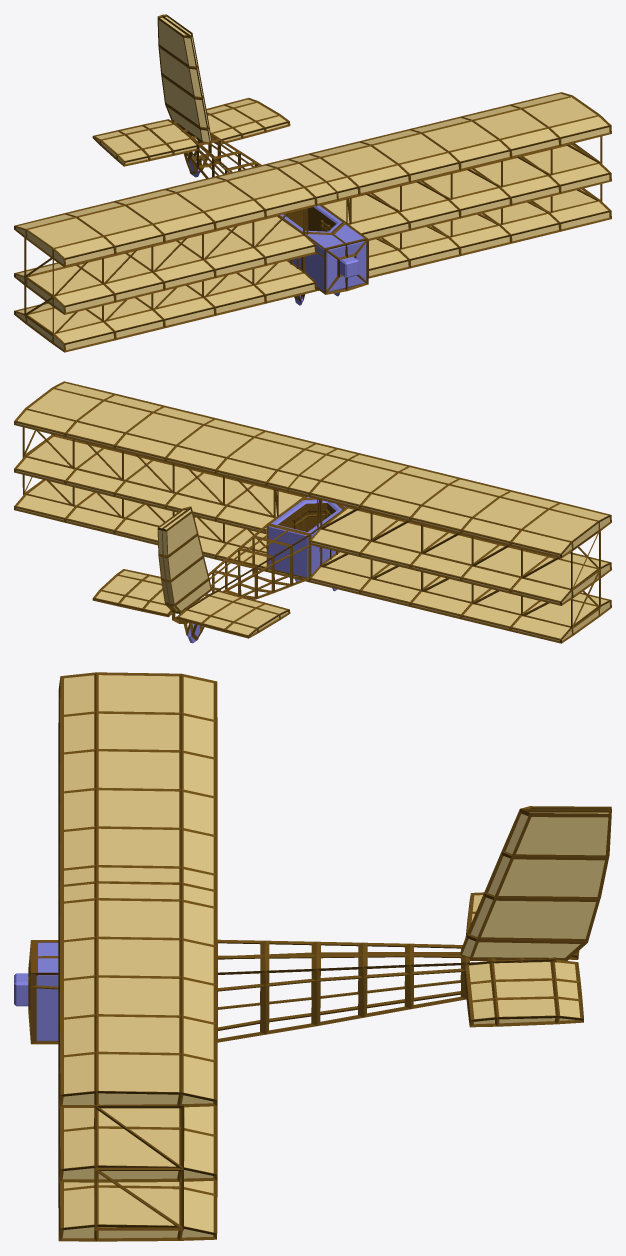
The model's file is triplane.fbx.
3 renders of one model, top to bottom at view 1: azimuth 30°, elevation 25°; view 2: azimuth 150°, elevation 25°; view 3: azimuth 270°, elevation 25°, orthographic. The views are drawn at different scales.
Visible parts, largest first — view 1: Cube.028, Cube.024, Cube.029, Cube.025, Cube.026, Cube.030, Cube.022, Cube.023; view 2: Cube.028, Cube.024, Cube.029, Cube.030, Cube.025, Cube.026, Cube.023, Cube.022; view 3: Cube.028, Cube.026, Cube.024, Cube.023, Cube.029, Cube.025, Cube.022, Cube.030.
Part boxes in pixels (box(x1,y1,x2,y2)): Cube.028: box(14, 92, 611, 267); Cube.024: box(14, 143, 611, 314); Cube.029: box(14, 188, 611, 352); Cube.025: box(92, 98, 290, 166); Cube.026: box(157, 14, 211, 144); Cube.030: box(24, 136, 602, 336); Cube.022: box(280, 205, 366, 291); Cube.023: box(172, 121, 368, 294); Cube.028: box(14, 381, 611, 558); Cube.024: box(14, 435, 611, 605); Cube.029: box(14, 479, 611, 643); Cube.030: box(22, 427, 600, 629); Cube.025: box(92, 569, 290, 638); Cube.026: box(157, 506, 211, 613); Cube.023: box(172, 496, 347, 640); Cube.022: box(268, 497, 346, 577); Cube.028: box(58, 672, 217, 1107); Cube.026: box(459, 806, 611, 960); Cube.024: box(58, 1064, 217, 1182); Cube.023: box(28, 939, 556, 1044); Cube.029: box(58, 1138, 217, 1241); Cube.025: box(464, 892, 583, 1027); Cube.022: box(14, 942, 58, 1040); Cube.030: box(94, 1104, 184, 1230).
Size of the model in its own units: 654 by 324 by 1088.
